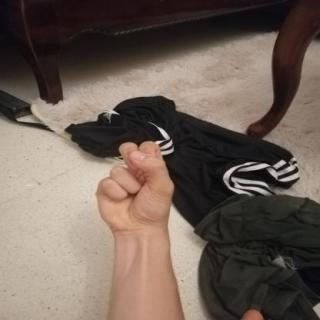QAAF: (86, 133, 182, 236)
